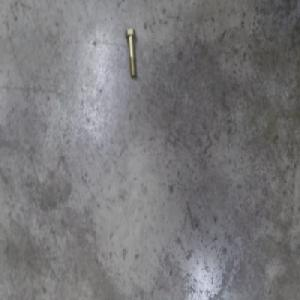Bolt: (125, 29, 138, 78)
